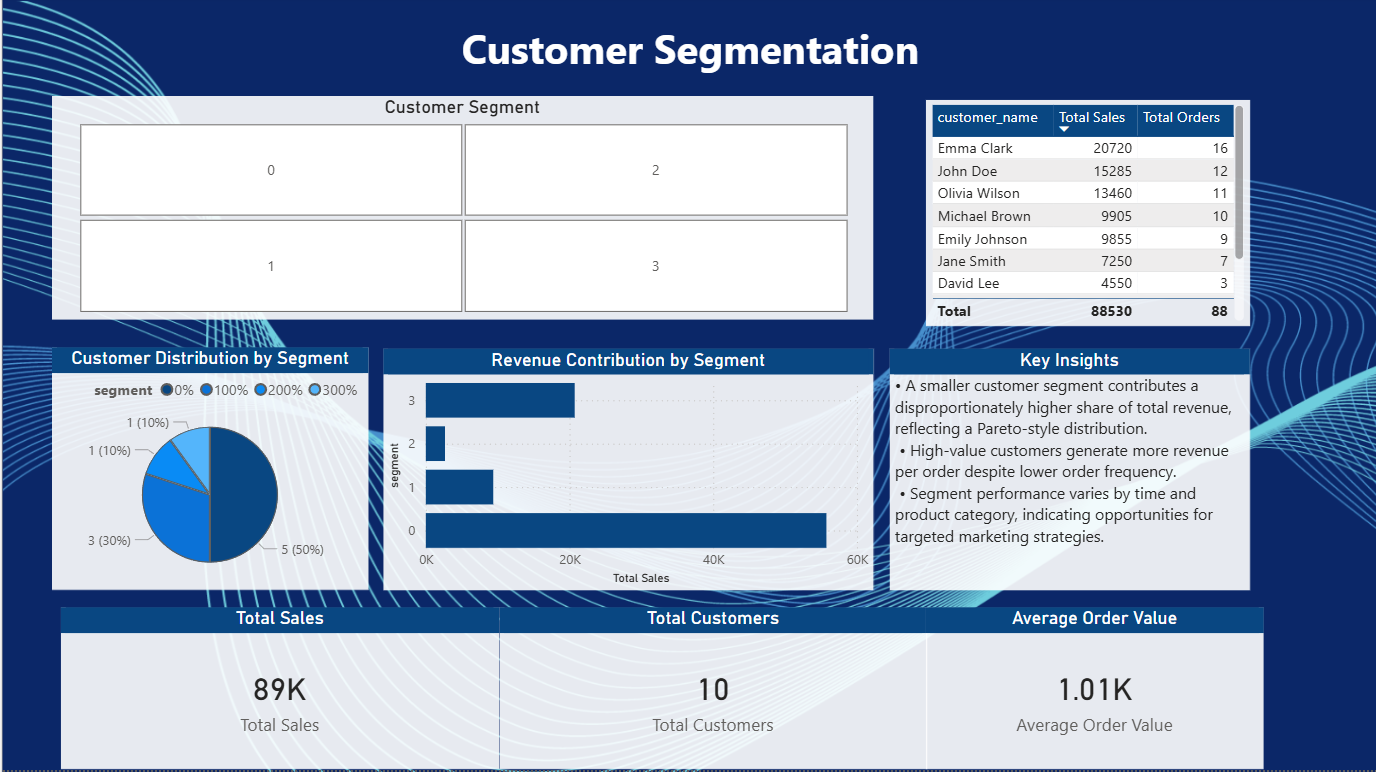

The dashboard page shown, as its layout file describes it:
{"tool":"powerbi","page":{"name":"Customer Segmentation","canvas":[1280,720],"ordinal":1},"visuals":[{"type":"card","title":"Total Customers","fields":{"Values":["final_amazon_sales.Total Customers"]},"box":[462.3,568.8,397.4,150.7],"z":0},{"type":"card","title":"Total Sales","fields":{"Values":["final_amazon_sales.Total Sales"]},"box":[54.5,568.8,407.8,150.7],"z":1000},{"type":"card","title":"Average Order Value","fields":{"Values":["final_amazon_sales.Average Order Value"]},"box":[859.7,568.8,314.3,150.7],"z":2000},{"type":"pieChart","title":"Customer Distribution by Segment","fields":{"Category":["final_amazon_sales.segment"],"Y":["final_amazon_sales.Total Customers"]},"box":[46.5,326.7,294.2,225.6],"z":3000},{"type":"clusteredBarChart","title":"Revenue Contribution by Segment","fields":{"Category":["final_amazon_sales.segment"],"Y":["final_amazon_sales.Total Sales"]},"box":[354.7,327.9,455.8,224.4],"z":4000},{"type":"tableEx","fields":{"Values":["final_amazon_sales.customer_name","final_amazon_sales.Total Sales","final_amazon_sales.Total Orders"]},"box":[859.7,96.1,301.3,210.4],"z":5000},{"type":"slicer","title":"Customer Segment","fields":{"Values":["final_amazon_sales.segment"]},"box":[46.8,93.5,763.6,207.8],"z":6000},{"type":"textbox","box":[0,18.2,1280.5,77.9],"z":7000},{"type":"textbox","title":"Key Insights","box":[825.6,327.9,334.9,224.4],"z":7001}]}

Visuals, with their boxes in screenshot pixels (x1, y1, x2, y2), scaled from the page's 1280x720 canvas onto the 1376x772 screenshot:
"Total Customers" card: crop(497, 610, 924, 771)
"Total Sales" card: crop(59, 610, 497, 771)
"Average Order Value" card: crop(924, 610, 1262, 771)
"Customer Distribution by Segment" pieChart: crop(50, 350, 366, 592)
"Revenue Contribution by Segment" clusteredBarChart: crop(381, 352, 871, 592)
tableEx - final_amazon_sales.customer_name x final_amazon_sales.Total Sales: crop(924, 103, 1248, 329)
"Customer Segment" slicer: crop(50, 100, 871, 323)
textbox: crop(0, 20, 1375, 103)
"Key Insights" textbox: crop(888, 352, 1248, 592)
